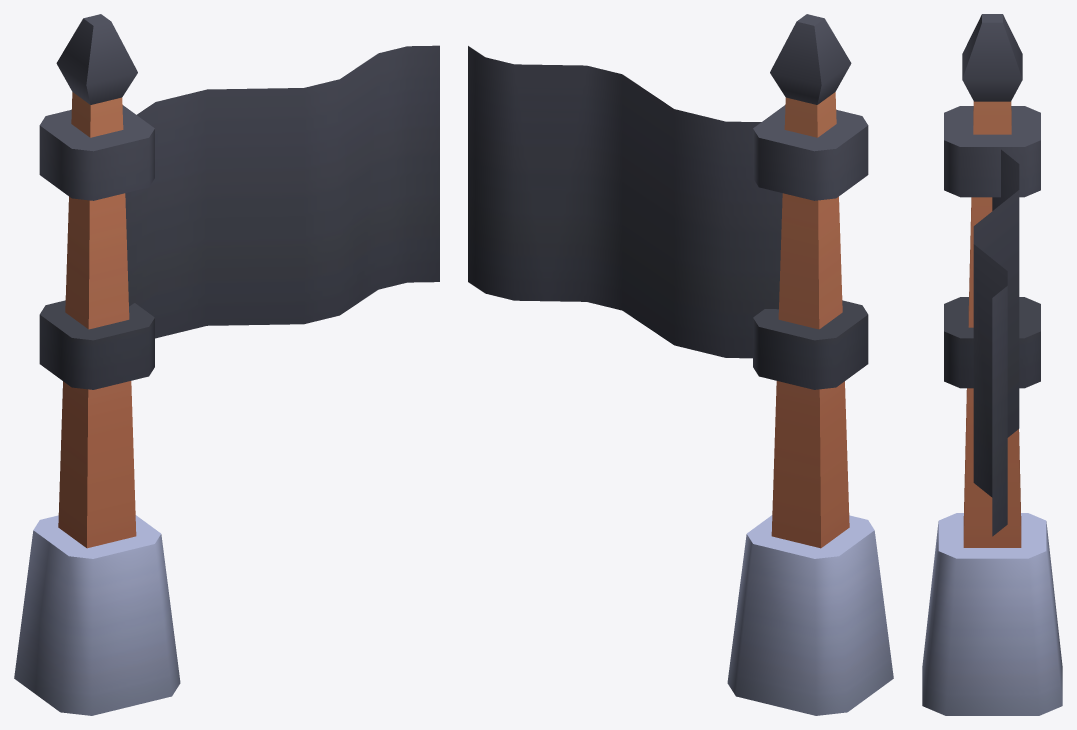
The model's file is flag-pirate.glb.
3 views of the same model, side by side, from view 1: azimuth 30°, elevation 25°; view 2: azimuth 150°, elevation 25°; view 3: azimuth 270°, elevation 25° (orthographic).
Visible parts, largest first — view 1: flag-pirate; view 2: flag-pirate; view 3: flag-pirate.
Boxes of the visible parts, x1,y1,x2,y2 form: flag-pirate: (14,14,439,715); flag-pirate: (468,14,893,715); flag-pirate: (922,14,1062,715).
Bounding box in the file's own units: 1.34 × 2.1 × 0.3988.
1 material, 1 textured.
